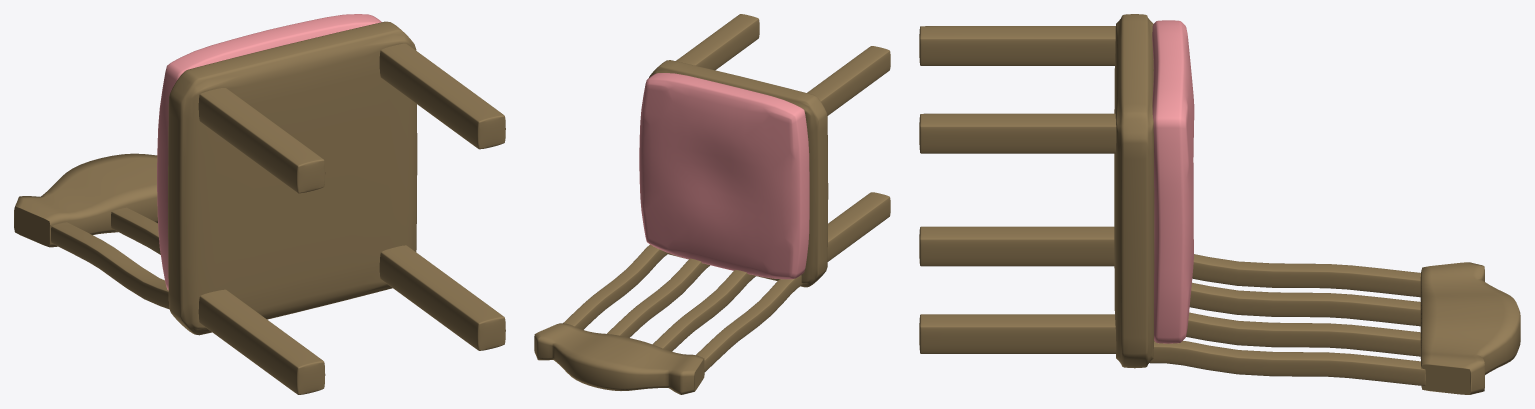
The model's file is Chair.fbx.
The picture shows the model from 3 angles, left to right: view 1: azimuth 30°, elevation 25°; view 2: azimuth 150°, elevation 25°; view 3: azimuth 270°, elevation 25°; orthographic projection. The views are drawn at different scales.
Visible parts, largest first — view 1: Chair; view 2: Chair; view 3: Chair.
Boxes of the visible parts, bbox=[...] form: Chair: bbox=[14, 14, 505, 394]; Chair: bbox=[534, 14, 890, 394]; Chair: bbox=[919, 14, 1520, 394].
Size of the model in its own units: 57.6 by 66.11 by 127.
